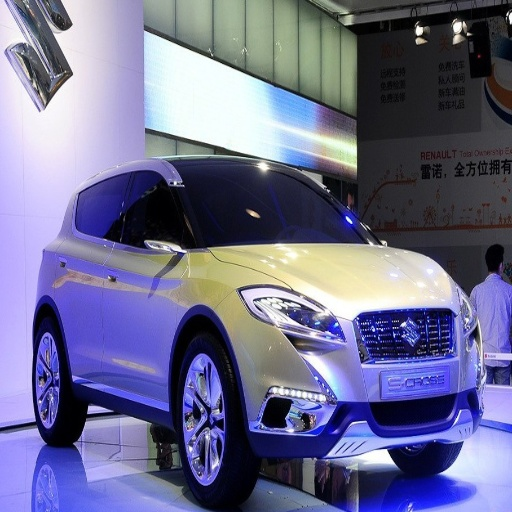front_bumper: (233, 306, 477, 457)
front_right_door: (103, 174, 189, 397)
front_right_light: (240, 285, 345, 343)
